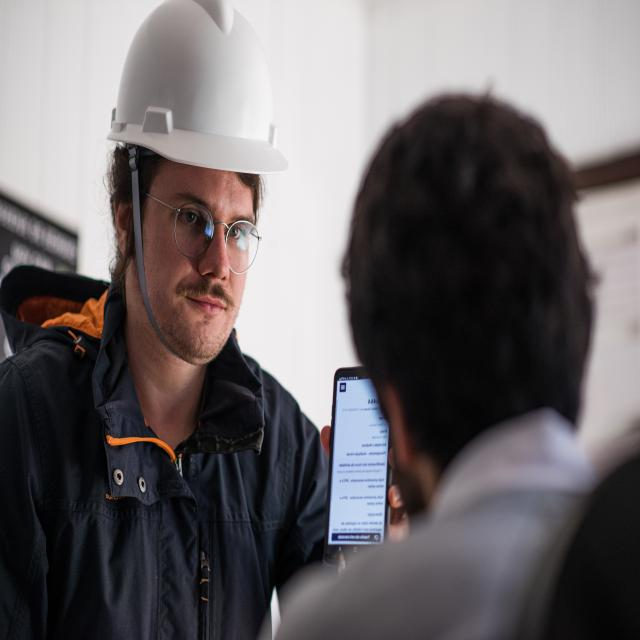capacete: (104, 1, 291, 180)
